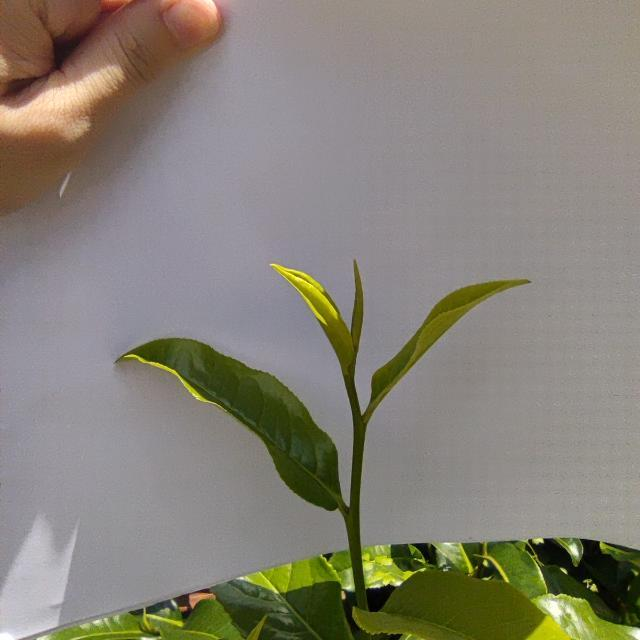Stem: (354, 418, 365, 439)
